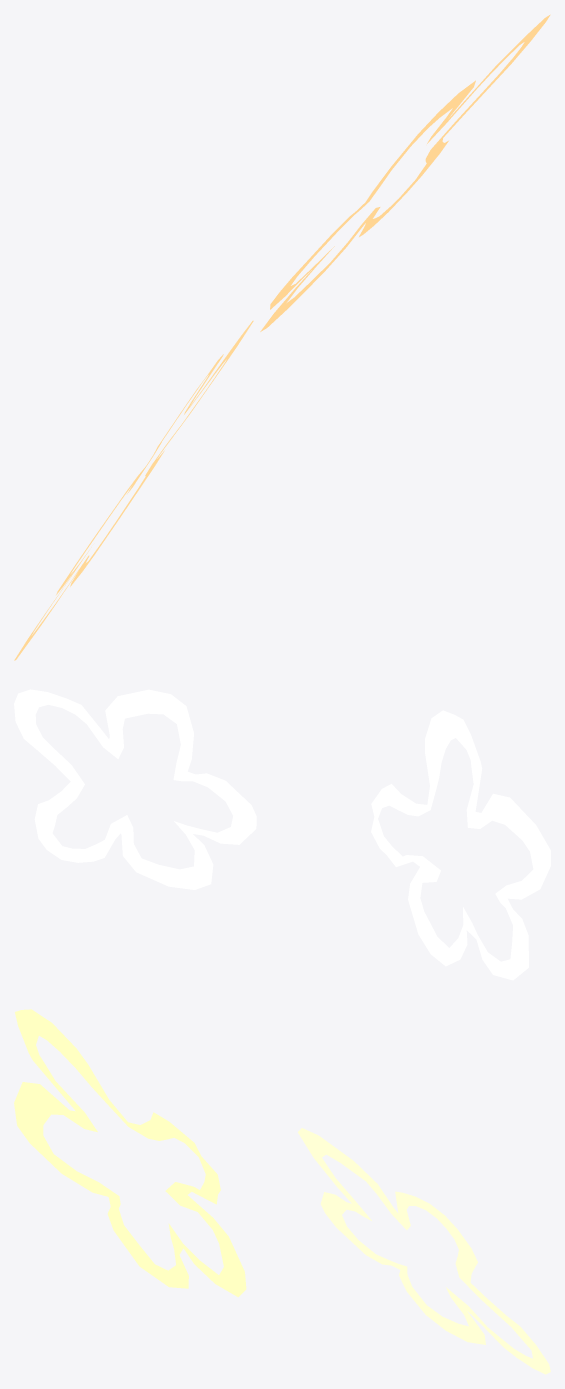
Rendered from object_24.001_lev3.glb.
3 views of the same model, one above another, from view 1: azimuth 30°, elevation 25°; view 2: azimuth 150°, elevation 25°; view 3: azimuth 270°, elevation 25° (orthographic). The views are drawn at different scales.
Parts seen in each view (by area): view 1: object_24.001_lev3; view 2: object_24.001_lev3; view 3: object_24.001_lev3.
Boxes of the visible parts, bbox=[...] form: object_24.001_lev3: bbox=[14, 14, 550, 660]; object_24.001_lev3: bbox=[14, 689, 550, 980]; object_24.001_lev3: bbox=[14, 1009, 550, 1374].
Size of the model in its own units: 1.05 by 0.5861 by 0.668.
